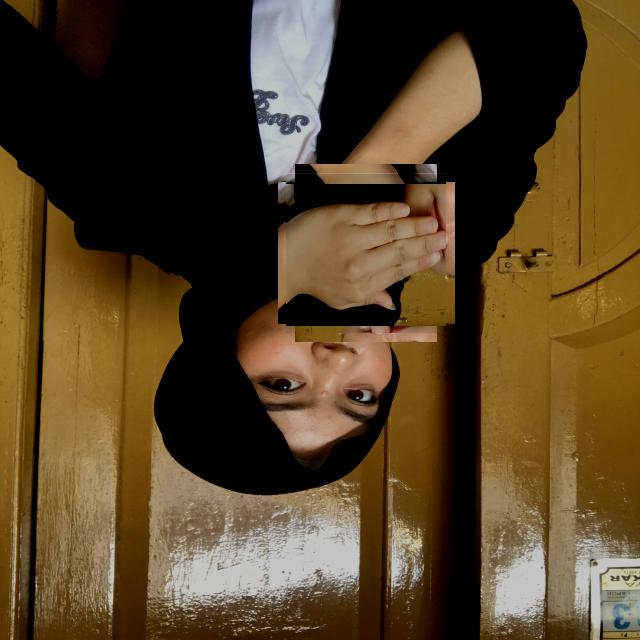ganteng: (286, 172, 446, 332)
